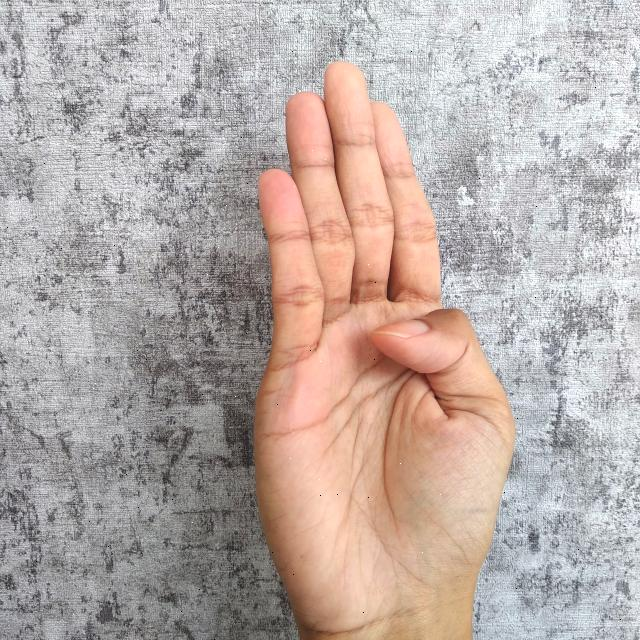B: (249, 51, 522, 640)
